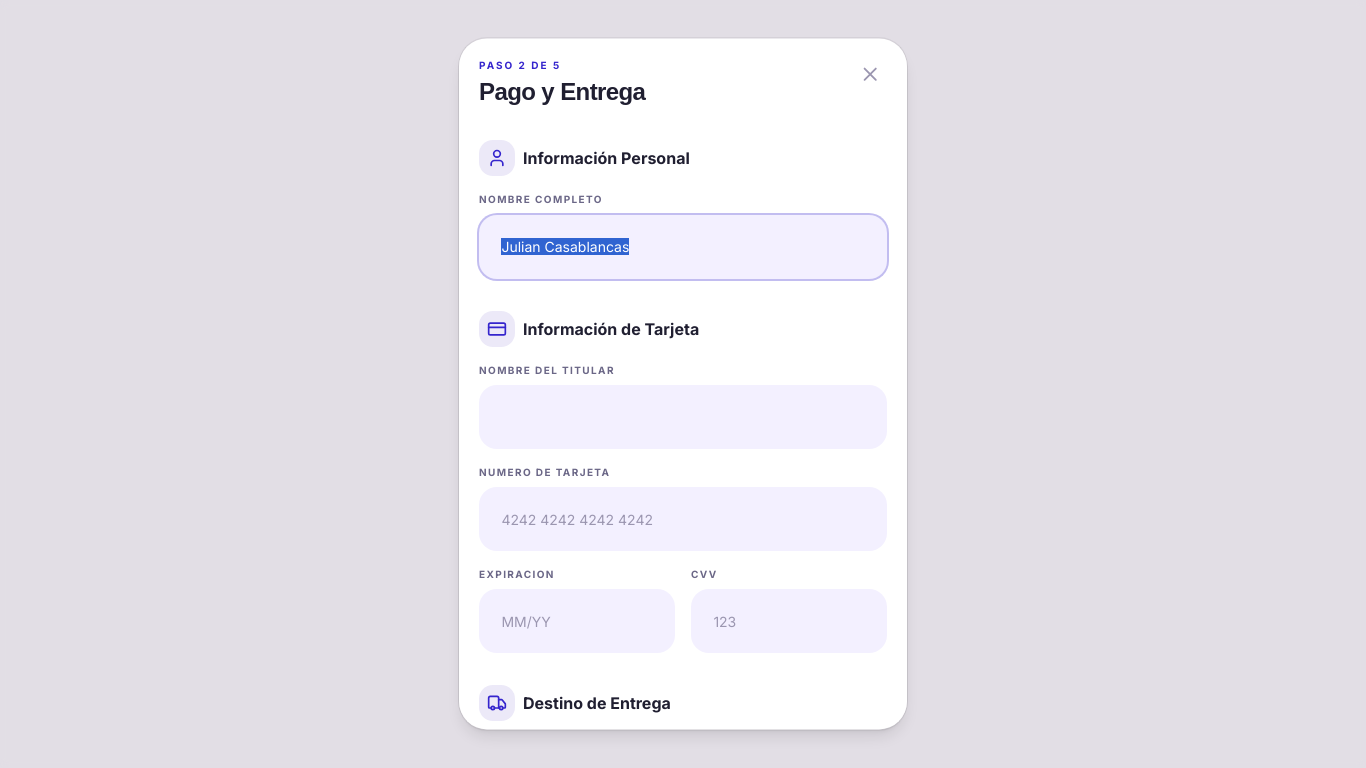
BillingInfoModal › detects MASTERCARD brand
In the field labelled "NUMERO DE TARJETA": (683, 520) [479, 488, 887, 552], type "5111111111111118"
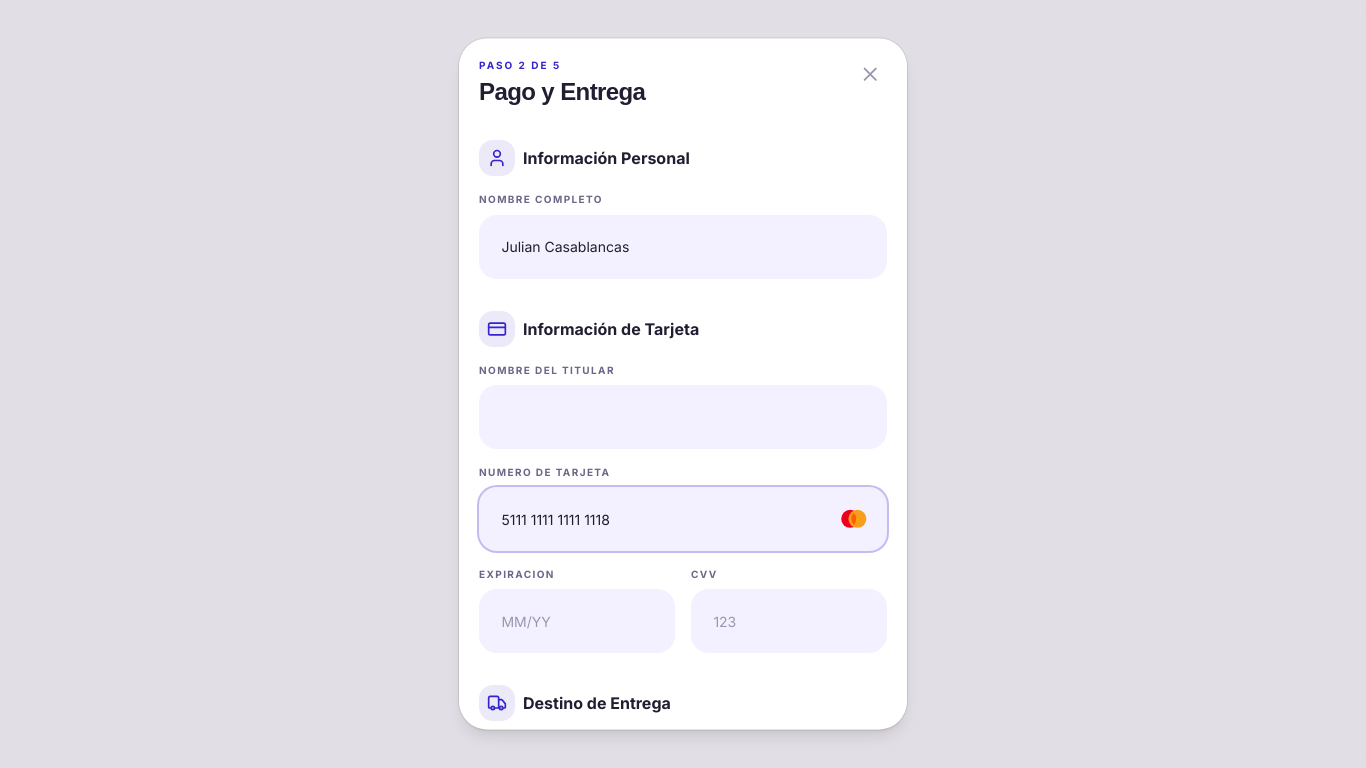
Expected: the picture named "Mastercard" is shown, [837, 509, 871, 530]
